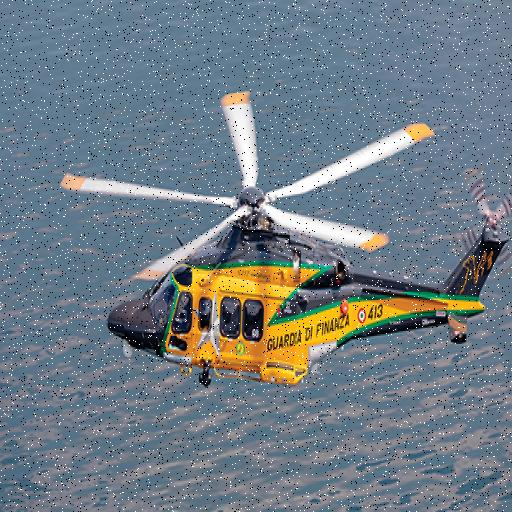helicopter: (58, 58, 512, 399)
